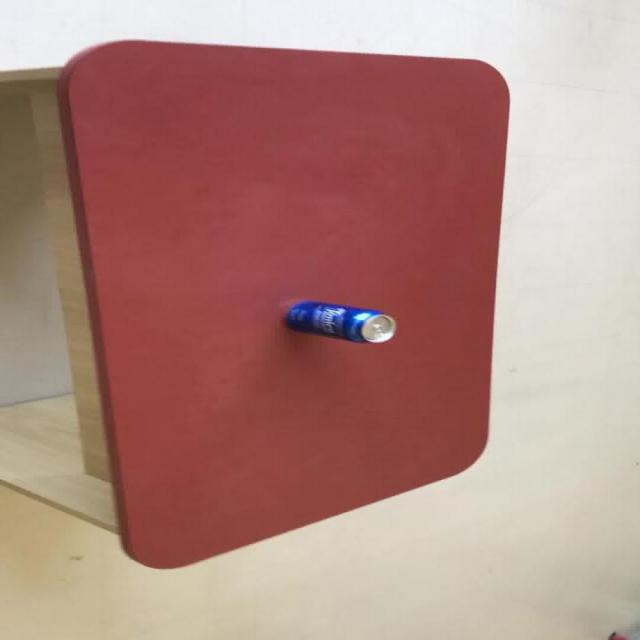Tonic: (282, 299, 396, 343)
